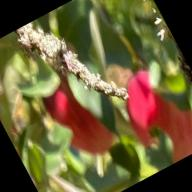Apples: (108, 54, 192, 173), (35, 66, 120, 167)
